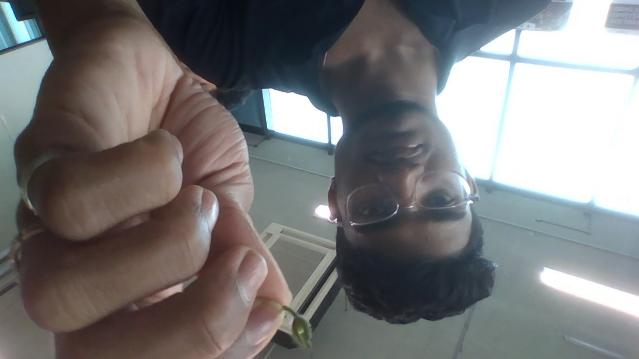Fruit Bud: (292, 315, 312, 348)
